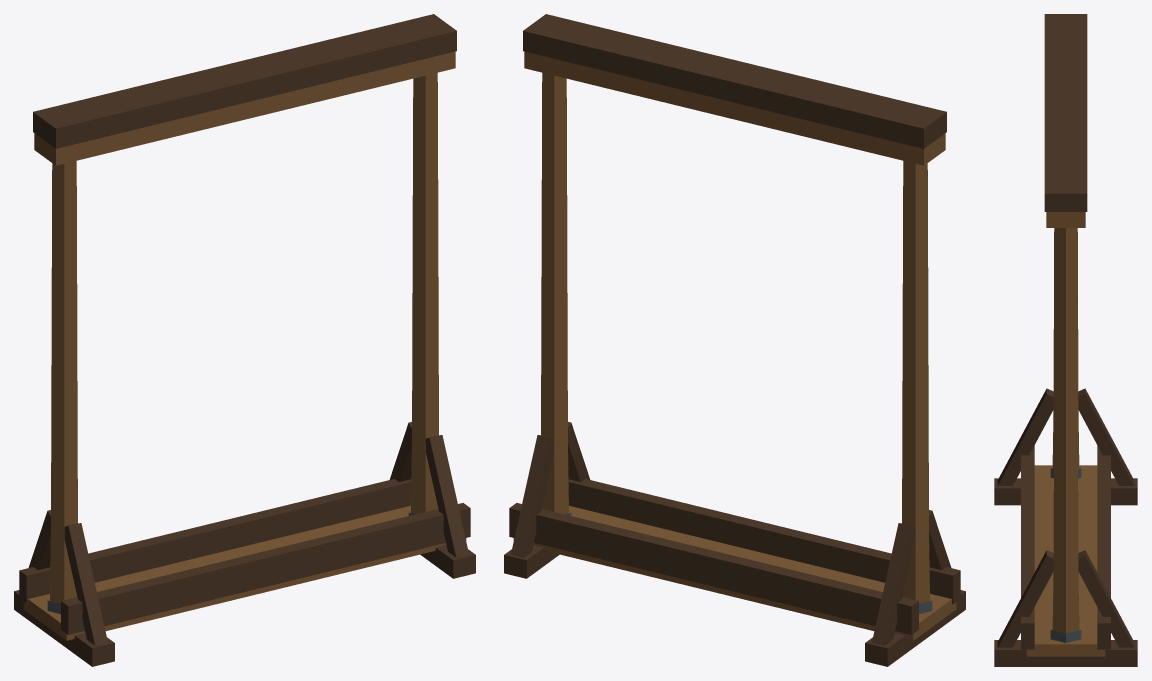
The model's file is mdvl_weapons_rack_01.glb.
3 renders of one model, left to right at view 1: azimuth 30°, elevation 25°; view 2: azimuth 150°, elevation 25°; view 3: azimuth 270°, elevation 25°, orthographic. The views are drawn at different scales.
Parts seen in each view (by area): view 1: mdvl_weapons_rack_01; view 2: mdvl_weapons_rack_01; view 3: mdvl_weapons_rack_01.
Part boxes in pixels (box(x1,y1,x2,y2)): mdvl_weapons_rack_01: box(14, 14, 475, 666); mdvl_weapons_rack_01: box(504, 14, 965, 666); mdvl_weapons_rack_01: box(994, 14, 1137, 666).
Size of the model in its own units: 1.25 by 1.54 by 0.42.
1 material, 1 textured.
